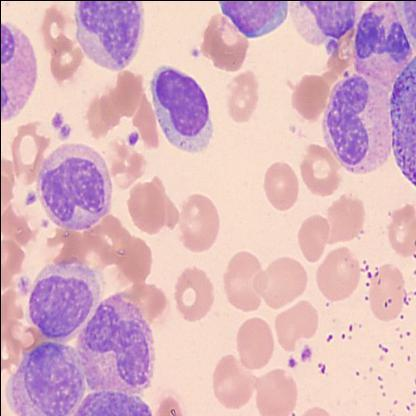Promyelocyte: (214, 1, 300, 40)
